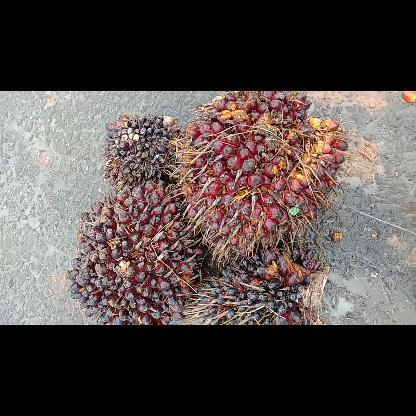Kurang masak: (64, 181, 202, 324)
TBS abnormal: (192, 246, 328, 324), (102, 113, 182, 187)
TBS masak: (182, 91, 348, 253)
